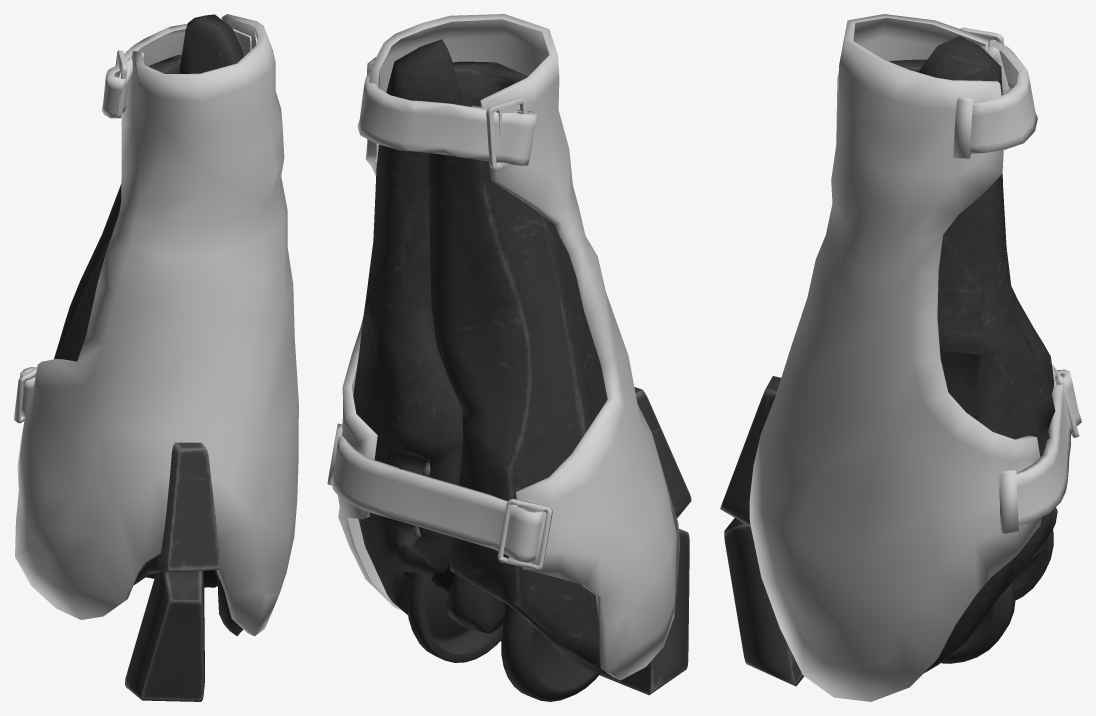
Rendered from leftFrontArm.obj.
3 renders of one model, left to right at view 1: azimuth 30°, elevation 25°; view 2: azimuth 150°, elevation 25°; view 3: azimuth 270°, elevation 25°, orthographic. The views are drawn at different scales.
Visible parts, largest first — view 1: desirefx_me_8_mesh0_mesh0000_007.168; view 2: desirefx_me_8_mesh0_mesh0000_007.168; view 3: desirefx_me_8_mesh0_mesh0000_007.168.
Part boxes in pixels (bbox=[...]): desirefx_me_8_mesh0_mesh0000_007.168: bbox=[14, 14, 298, 701]; desirefx_me_8_mesh0_mesh0000_007.168: bbox=[327, 14, 691, 701]; desirefx_me_8_mesh0_mesh0000_007.168: bbox=[720, 14, 1081, 701].
Bounding box in the file's own units: 0.0772 × 0.1702 × 0.0811.
